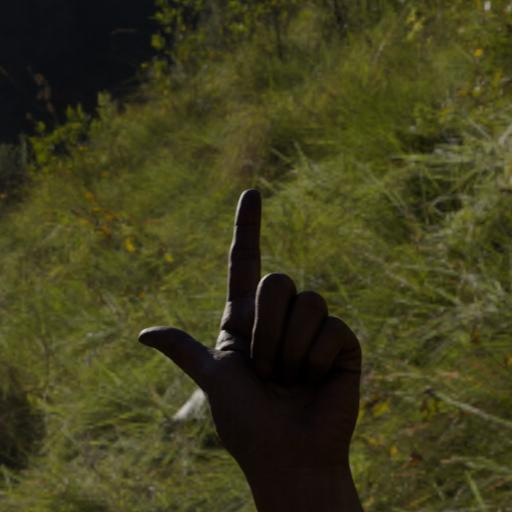L: (133, 184, 373, 470)
